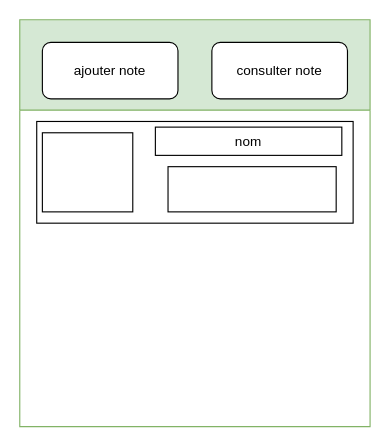
Some shapes in this 390 by 446 pixel diagram are drawn without their labels. Here are the shapes that lost their labels. From the top down, the box of each, then its label:
(41, 132, 133, 212): DATE
(167, 166, 336, 212): note
